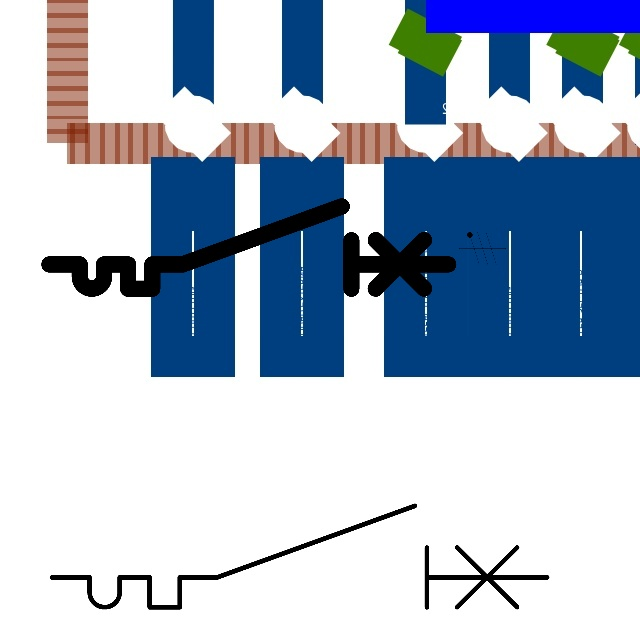interruptor_termomagnetico: (39, 493, 560, 620), (39, 196, 459, 299)
